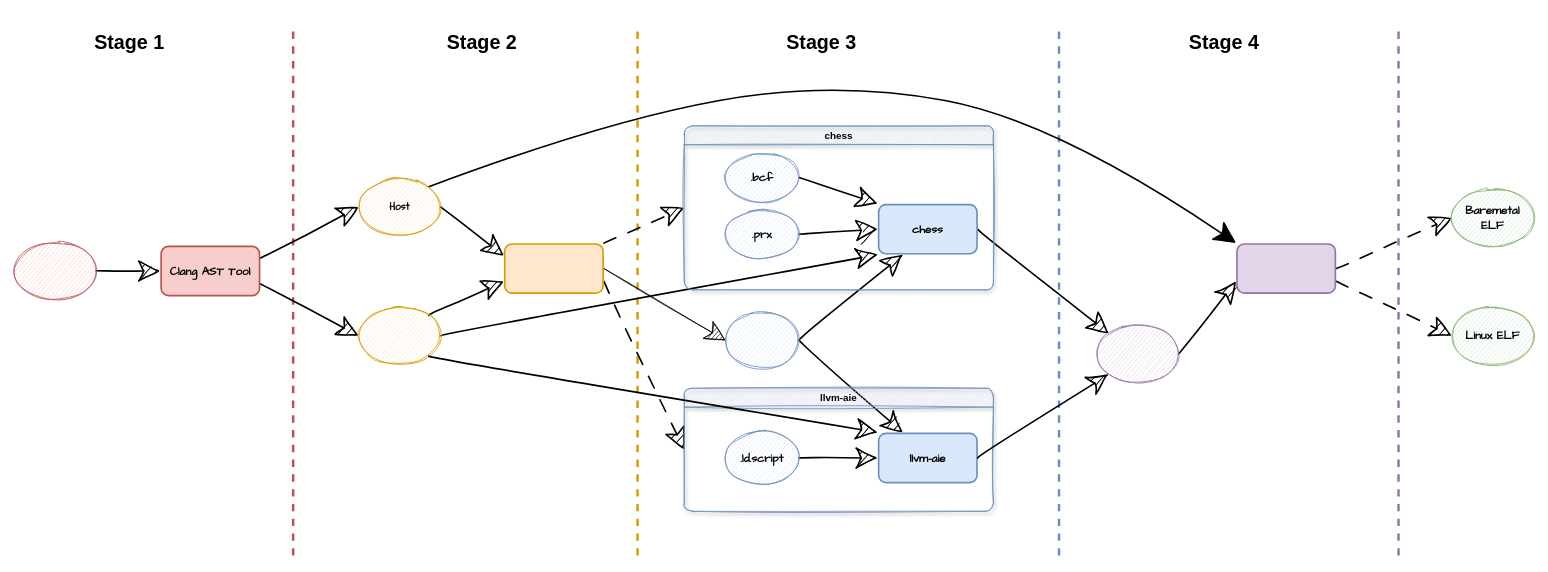
Image size: 1548x572. Some labels were removed from this diagram. Here are the shapes that lost their labels. From the top down, the centre of each, then its label:
point 55,270: C++ code Host + Kernels
point 553,268: AIE Frontend (MLIR-based)
point 1286,268: ARM Compiler/Linker
point 399,335: Kernels
point 761,340: kernel wrapper
point 1137,353: Kernel Objects (*.o)
